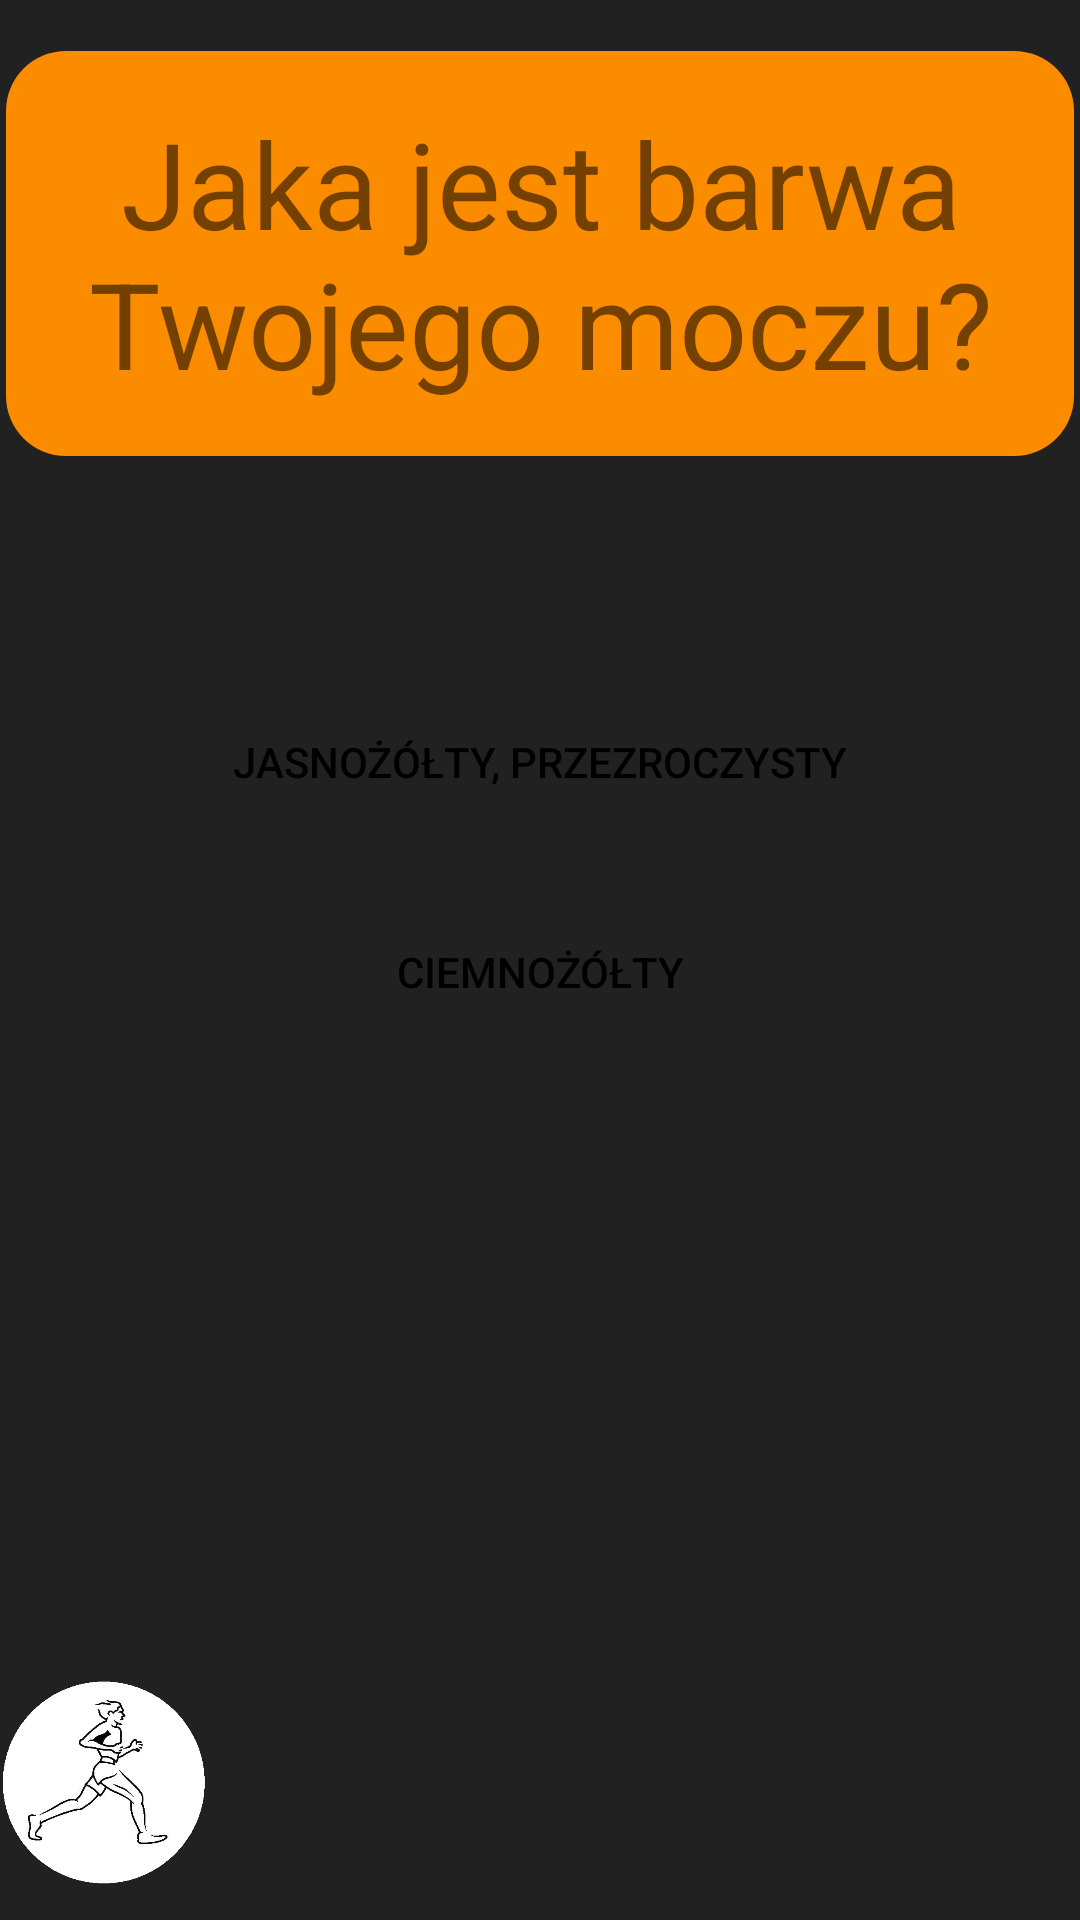

Named icons in this screenshot (1080 × 1920) and their centers, point (x, y):
biegaczz: point (104, 1782)
